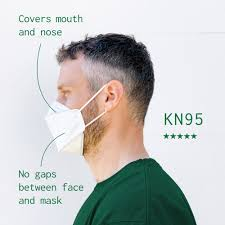with-mask: (43, 37, 141, 171)
